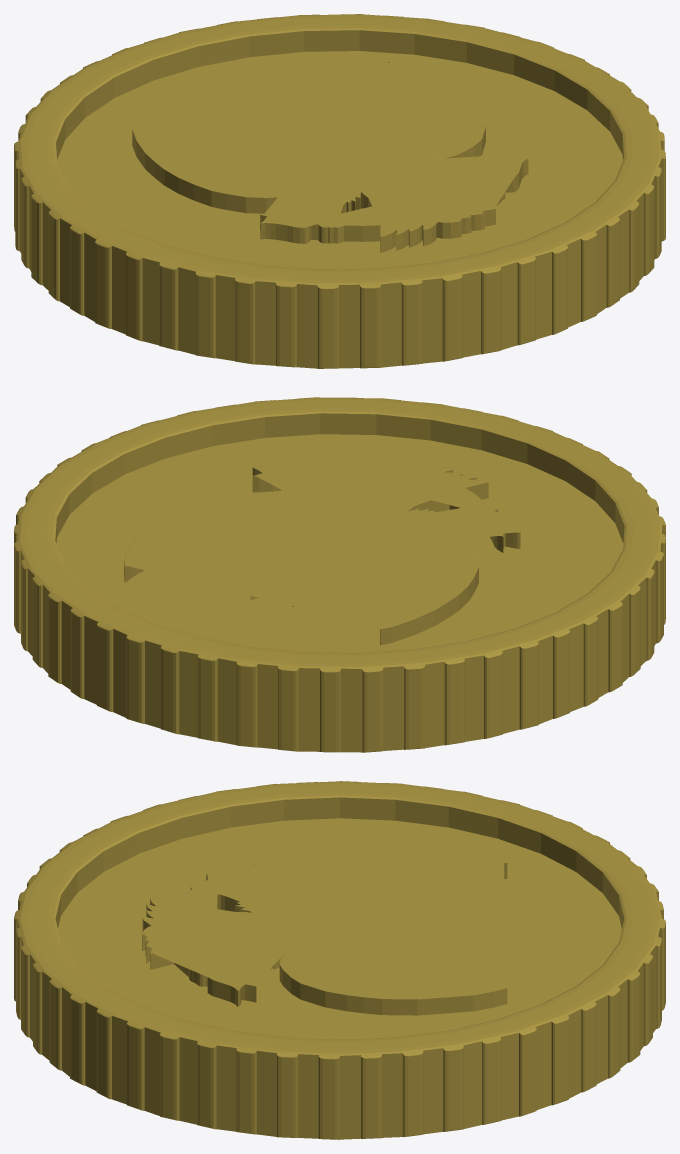
The model's file is asset-coin.fbx.
3 views of the same model, one above another, from view 1: azimuth 30°, elevation 25°; view 2: azimuth 150°, elevation 25°; view 3: azimuth 270°, elevation 25° (orthographic).
Parts seen in each view (by area): view 1: Cylinder; view 2: Cylinder; view 3: Cylinder.
Boxes of the visible parts, <box> form: Cylinder: <box>14,14,665,368</box>; Cylinder: <box>14,397,665,752</box>; Cylinder: <box>14,781,665,1139</box>.
Size of the model in its own units: 42.5 by 6.14 by 42.15.
